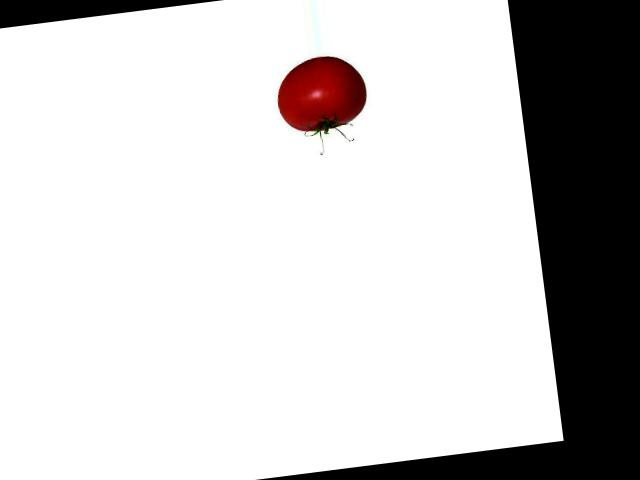tomato: (271, 51, 369, 135)
